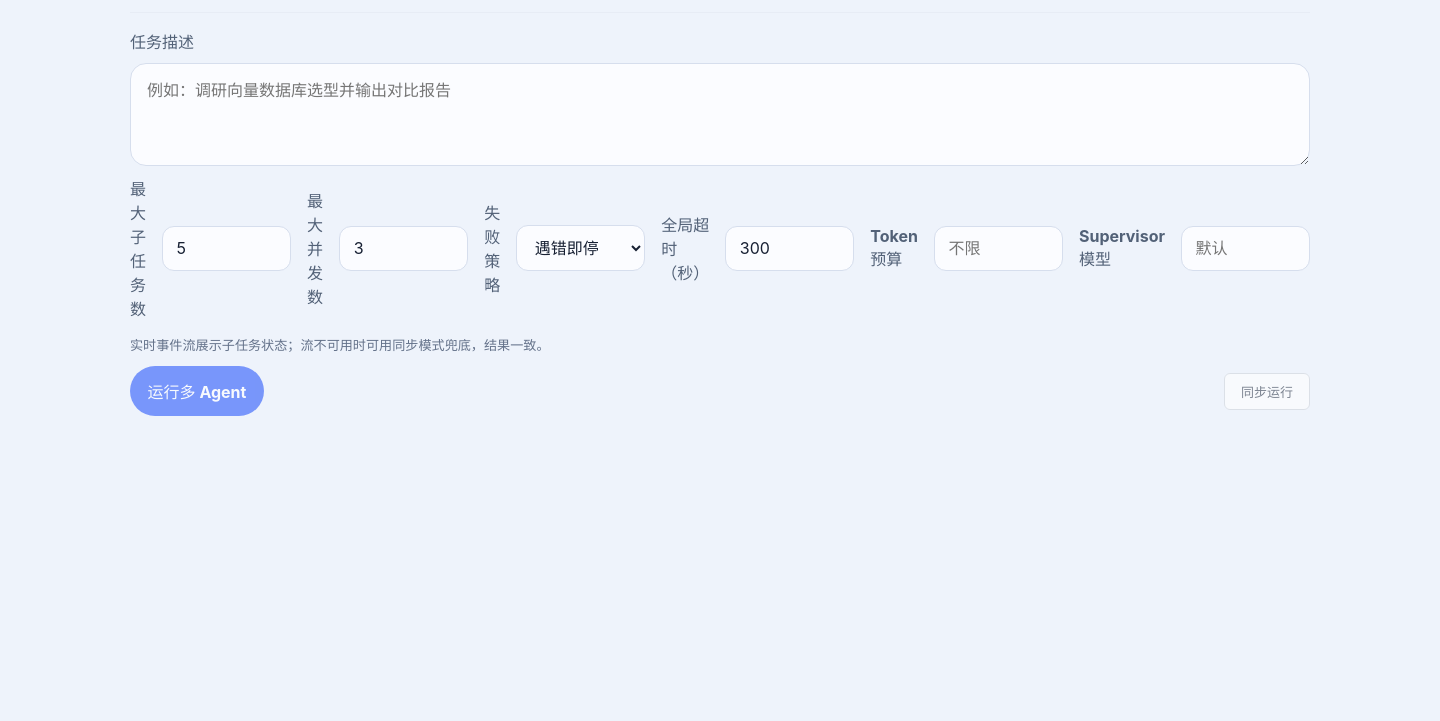
Scenario: MultiAgentPanel › streams a run into a timeline with a summary
The image size is (1440, 721).
Type "写一份报告" into the text box labelled "任务描述" at (720, 114), box 130,63 -> 1310,166
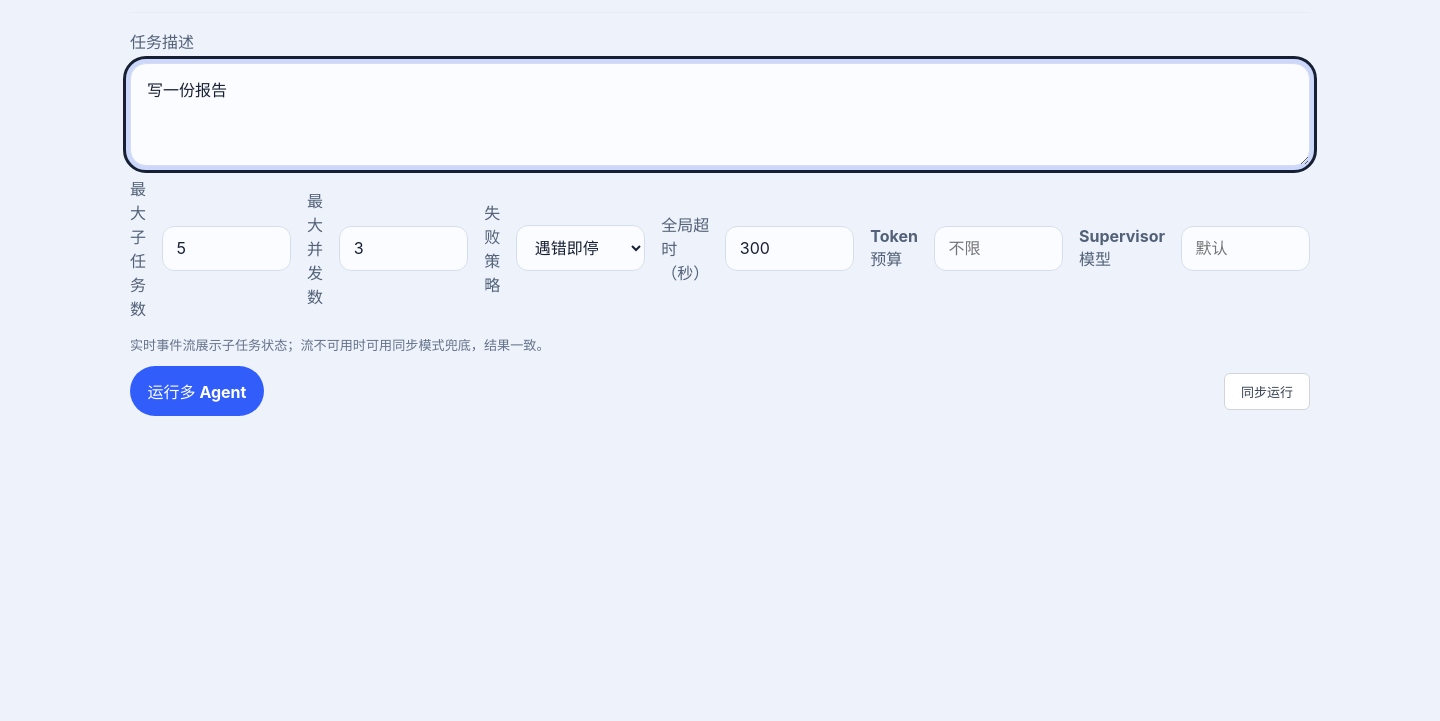
Click the button "运行多 Agent" at (197, 391), box 130,366 -> 264,416
(page scrolled)
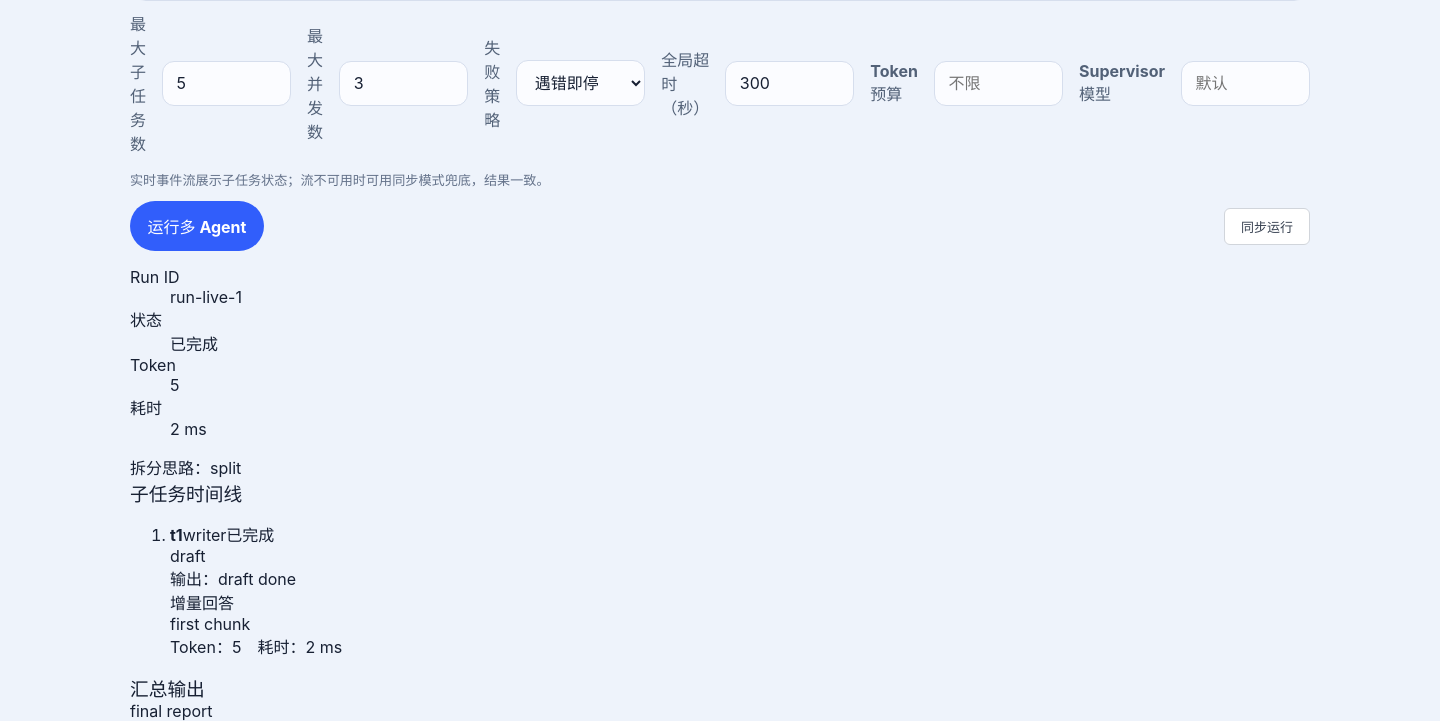
expect the text "final report" is shown: met, box 130,701 -> 213,720
expect the text "t1" is shown: met, box 170,525 -> 183,545
expect the text "输出：draft done" is shown: met, box 170,569 -> 296,589
